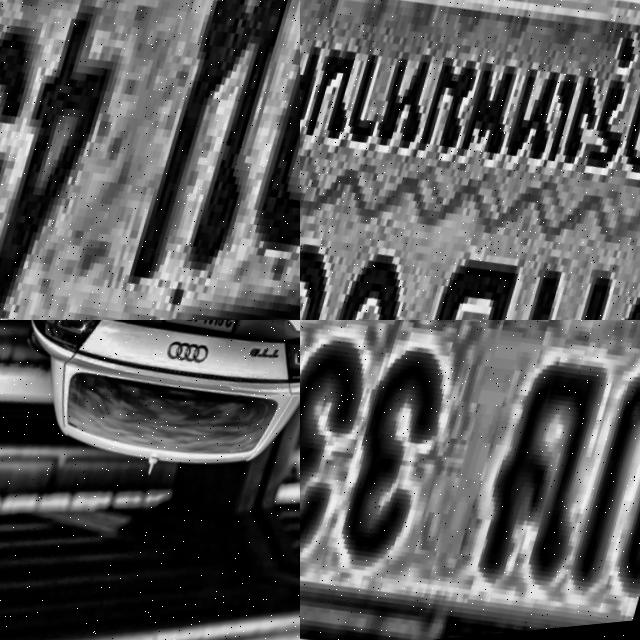license-plate: (300, 0, 640, 320), (300, 320, 640, 640), (0, 0, 300, 320), (162, 320, 253, 351)
